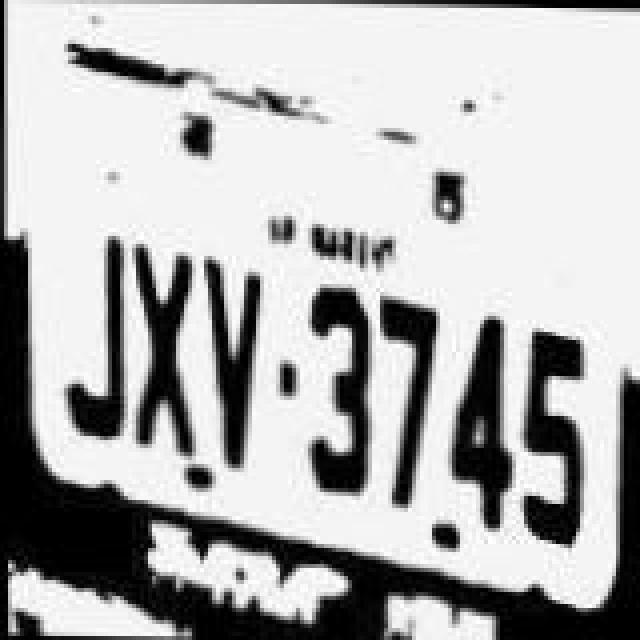3: (290, 276, 370, 496)
4: (442, 308, 514, 532)
5: (508, 318, 596, 562)
7: (368, 290, 444, 518)
J: (54, 234, 130, 446)
V: (198, 258, 266, 462)
X: (128, 240, 200, 460)
